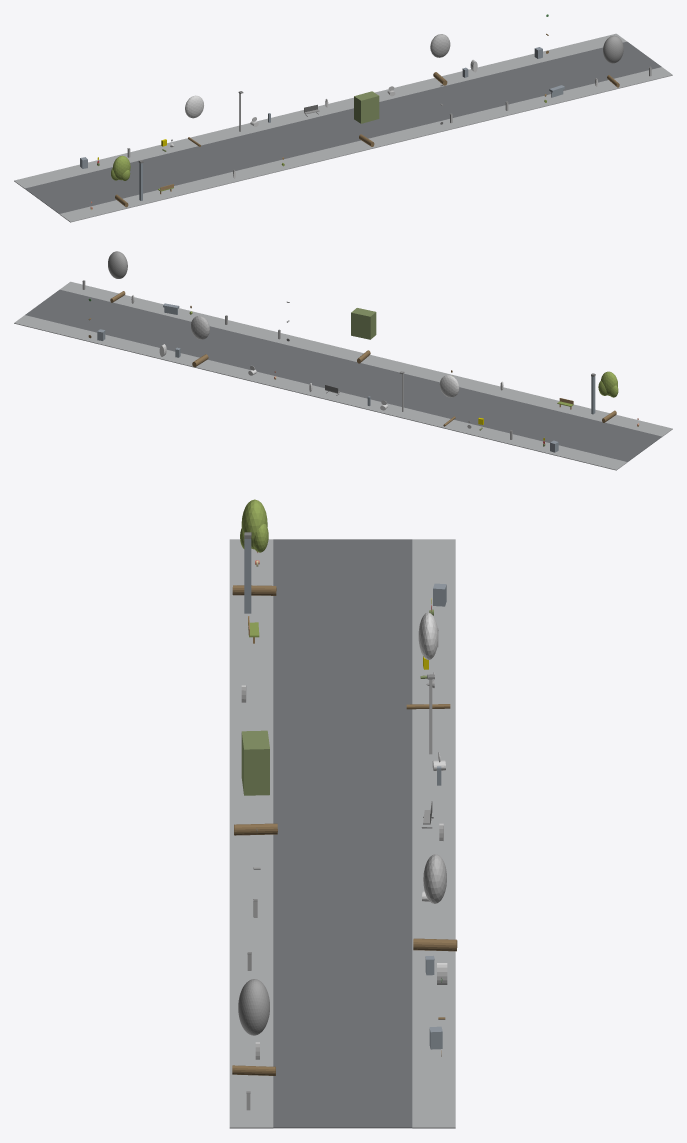
3 views of the same model, one above another, from view 1: azimuth 30°, elevation 25°; view 2: azimuth 150°, elevation 25°; view 3: azimuth 270°, elevation 25° (orthographic). The views are drawn at different scales.
Visible parts, largest first — view 1: road_slab, sidewalk_left, sidewalk_right, inst_0014, inst_0016, inst_0015, inst_0012, inst_0013; view 2: road_slab, sidewalk_right, sidewalk_left, inst_0014, inst_0016, inst_0012, inst_0015, inst_0013; view 3: road_slab, sidewalk_right, sidewalk_left, inst_0014, inst_0016, inst_0012, inst_0015, inst_0013.
Boxes of the visible parts, x1,y1,x2,y2 form: road_slab: (25, 41, 661, 213); sidewalk_left: (59, 67, 672, 222); sidewalk_right: (14, 33, 626, 188); inst_0014: (354, 91, 379, 146); inst_0016: (603, 35, 623, 87); inst_0015: (430, 34, 450, 85); inst_0012: (111, 155, 130, 207); inst_0013: (185, 95, 203, 146); road_slab: (25, 289, 661, 462); sidewalk_right: (14, 315, 627, 470); sidewalk_left: (60, 281, 672, 436); inst_0014: (351, 308, 376, 363); inst_0016: (108, 251, 127, 302); inst_0012: (598, 371, 618, 422); inst_0015: (191, 315, 209, 367); inst_0013: (439, 375, 459, 426); road_slab: (273, 539, 412, 1128); sidewalk_right: (412, 539, 455, 1128); sidewalk_left: (229, 539, 273, 1128); inst_0014: (234, 730, 277, 835); inst_0016: (232, 979, 275, 1075); inst_0012: (232, 499, 276, 595); inst_0015: (413, 854, 457, 951); inst_0013: (406, 612, 450, 709).
Bounding box in the file's own units: 80 × 6.08 × 13.08.
